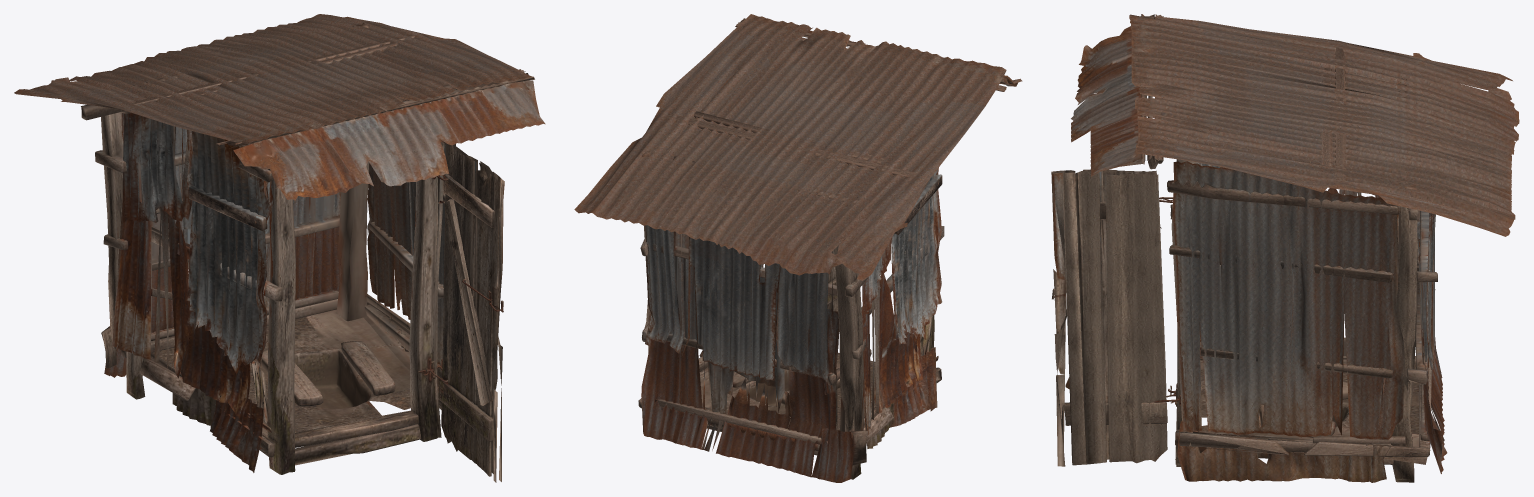
File: Meshy_AI_Rusty_Outhouse_20261028_texture.fbx
The picture shows the model from 3 angles, left to right: view 1: azimuth 30°, elevation 25°; view 2: azimuth 150°, elevation 25°; view 3: azimuth 270°, elevation 25°; orthographic projection. The views are drawn at different scales.
Visible parts, largest first — view 1: Mesh_0; view 2: Mesh_0; view 3: Mesh_0.
Boxes of the visible parts, box(x1,y1,x2,y2) form: Mesh_0: box(14, 14, 545, 482); Mesh_0: box(574, 14, 1022, 482); Mesh_0: box(1051, 14, 1519, 482).
Size of the model in its own units: 76.37 by 80.08 by 95.26.
1 material, 1 textured.
